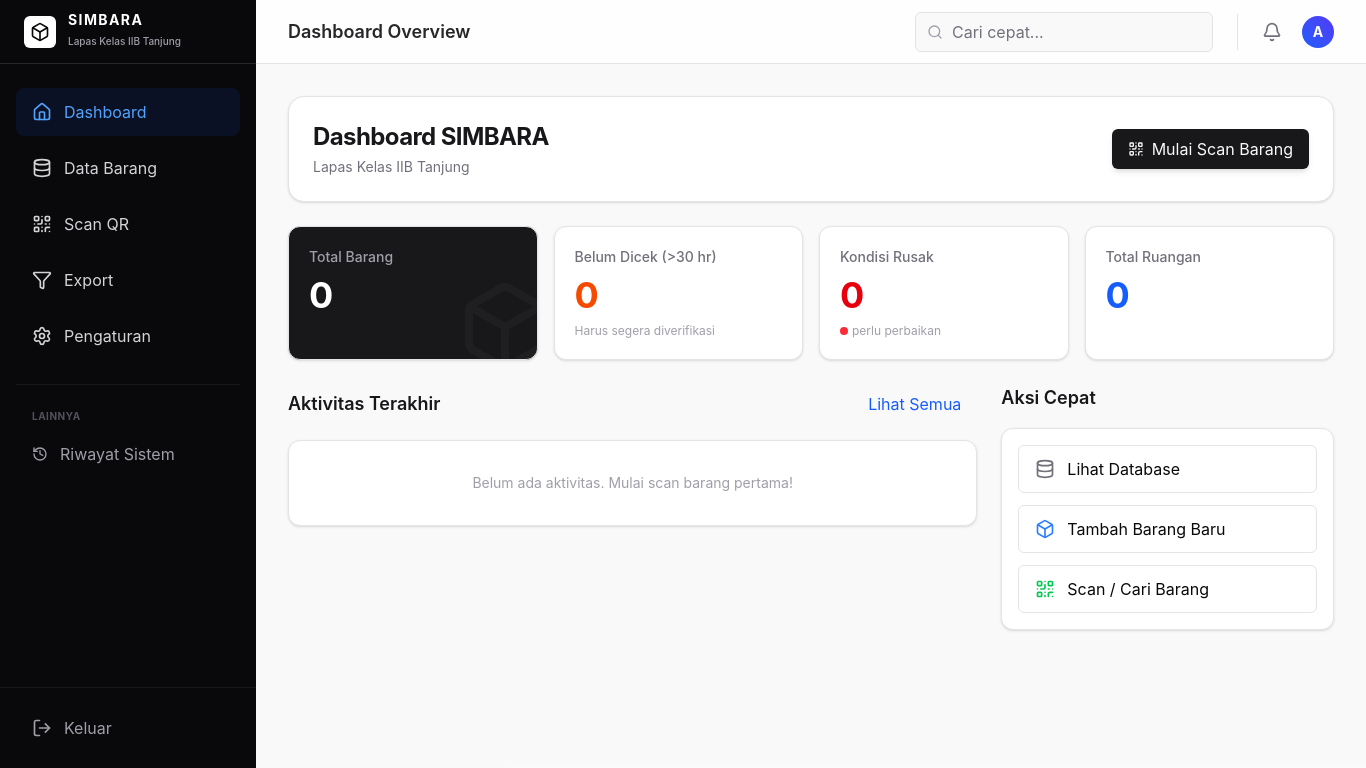
Scenario: App › opens item detail from the global quick search
Check: the heading "Dashboard SIMBARA" is shown, box [313,121,549,153]
Type "laptop" into the field with placeholder "Cari cepat...".
click(1064, 32); type("laptop")  # box [915,12,1213,52]
Then press Enter
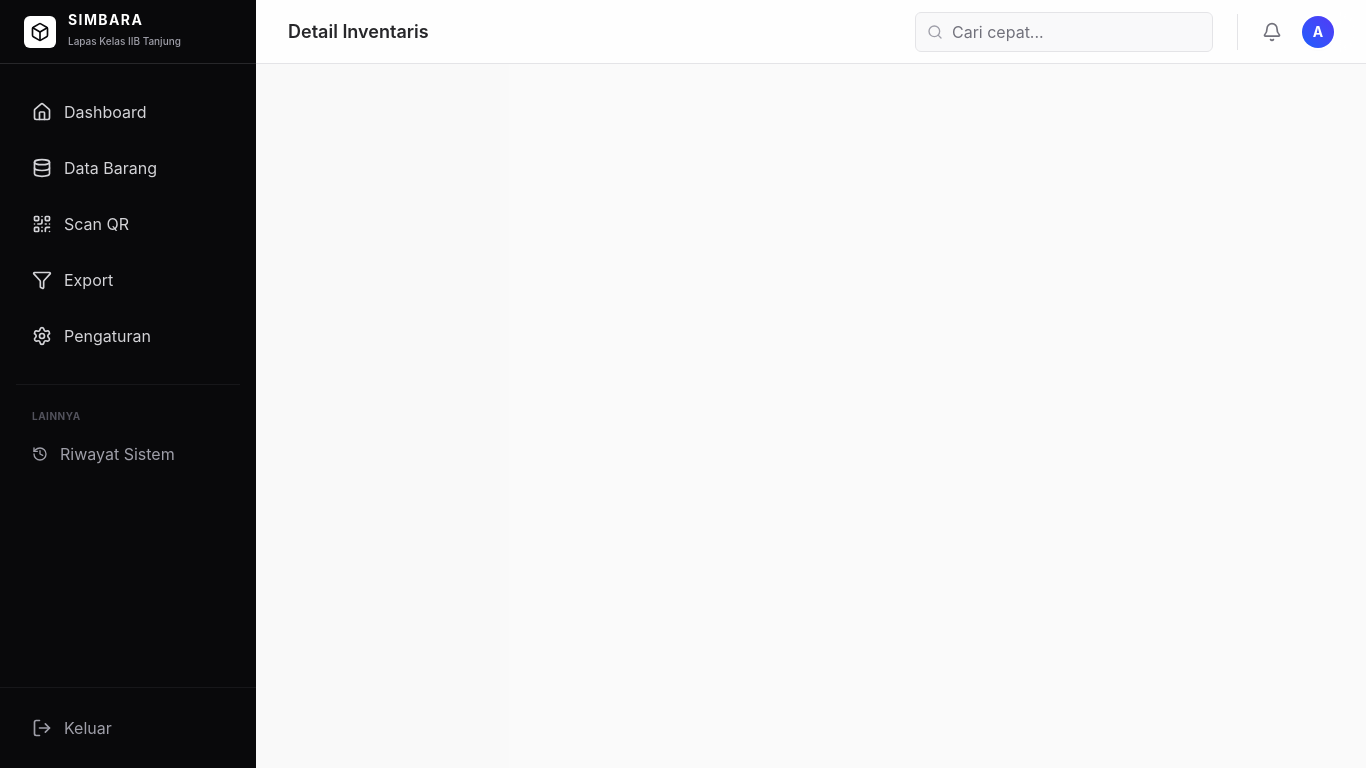
Check: the heading "Detail Inventaris" is shown, box [288,18,429,46]
